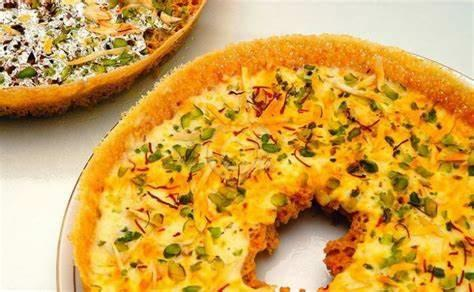Ghevar: (67, 34, 474, 292), (1, 0, 207, 117)
